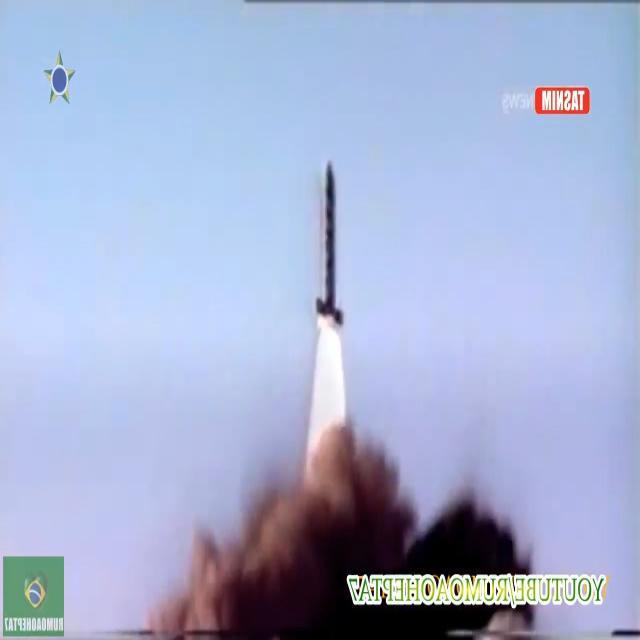missile: (311, 149, 344, 347)
